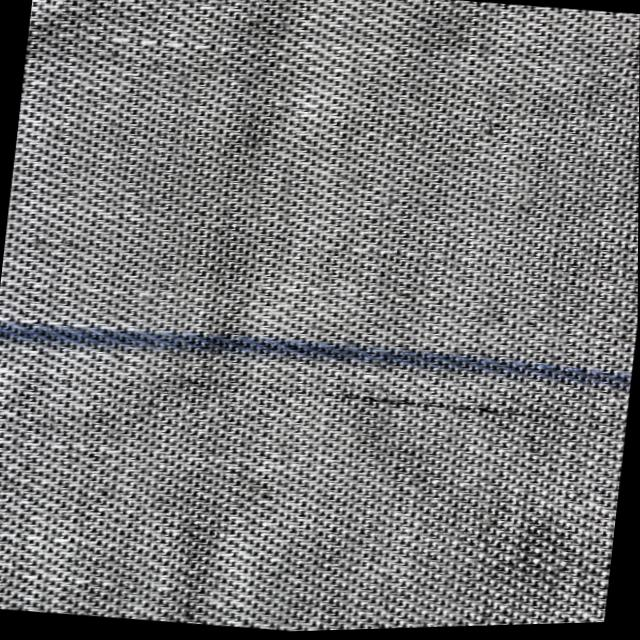Hole: (232, 372, 571, 433)
